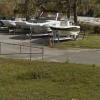Boat: (1, 14, 84, 40)
